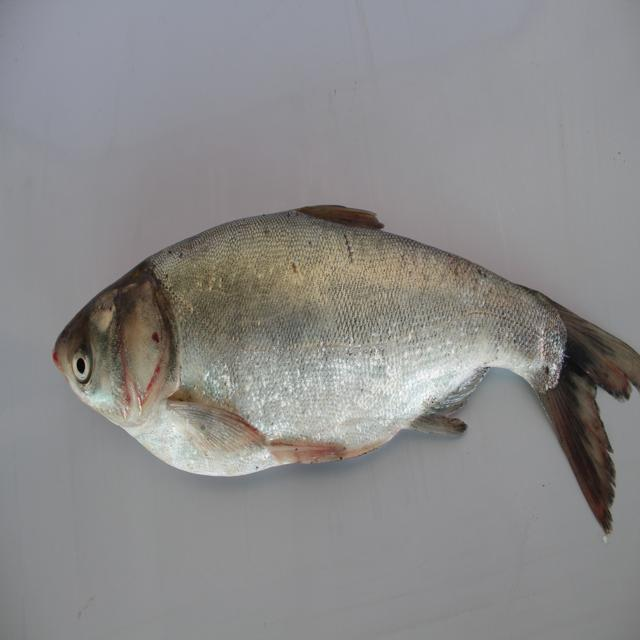SilverCarp: (41, 201, 633, 533)
